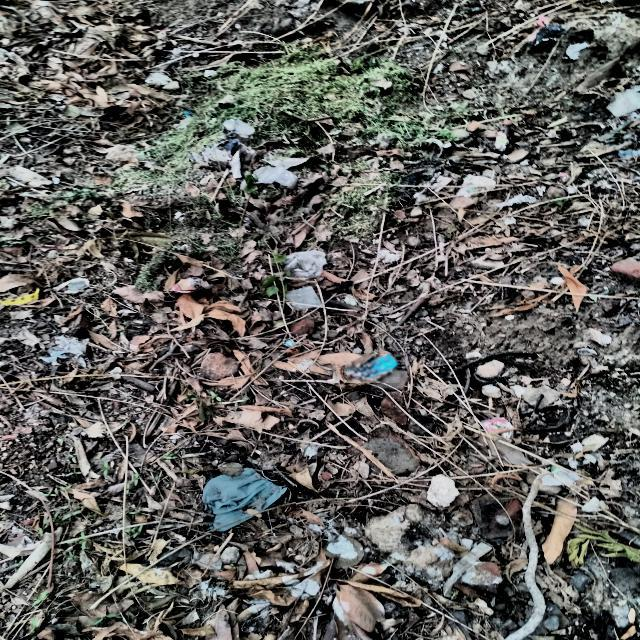anorganik: (348, 355, 398, 383)
b3: (204, 467, 295, 533)
